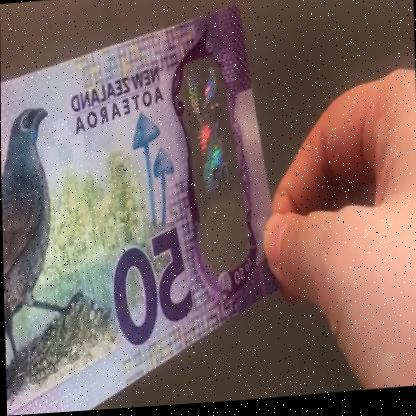50B: (185, 61, 241, 267)
